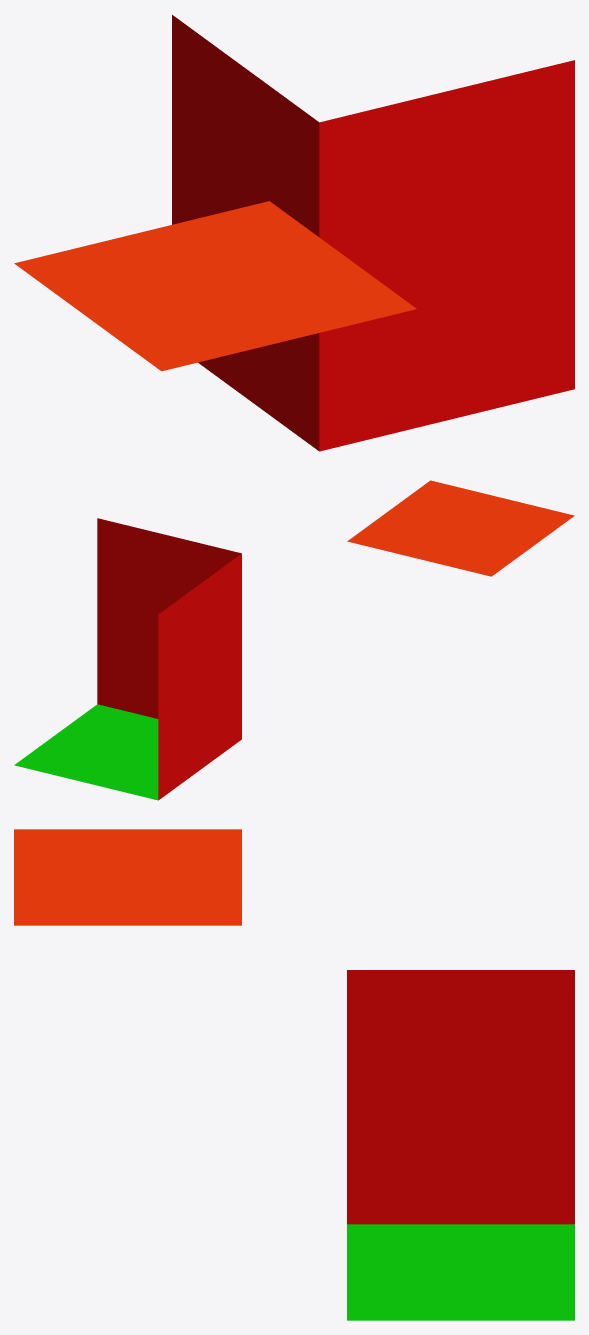
The picture shows the model from 3 angles, top to bottom: view 1: azimuth 30°, elevation 25°; view 2: azimuth 150°, elevation 25°; view 3: azimuth 270°, elevation 25°; orthographic projection. The views are drawn at different scales.
Parts seen in each view (by area): view 1: None_W_A_E_A_A_S_A_E_None; view 2: None_W_A_E_A_A_S_A_E_None; view 3: None_W_A_E_A_A_S_A_E_None.
Boxes of the visible parts, left/top/right/bottom form: None_W_A_E_A_A_S_A_E_None: left=14, top=15, right=574, bottom=451; None_W_A_E_A_A_S_A_E_None: left=14, top=480, right=574, bottom=800; None_W_A_E_A_A_S_A_E_None: left=14, top=829, right=574, bottom=1320.
Bounding box in the file's own units: 100 × 50 × 100.
